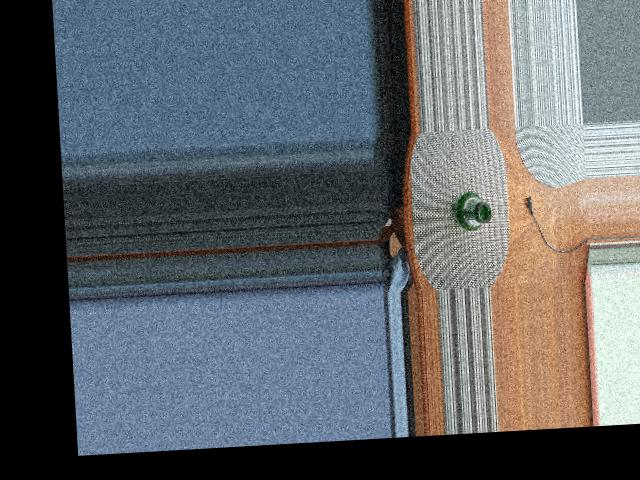beer: (450, 192, 491, 229)
